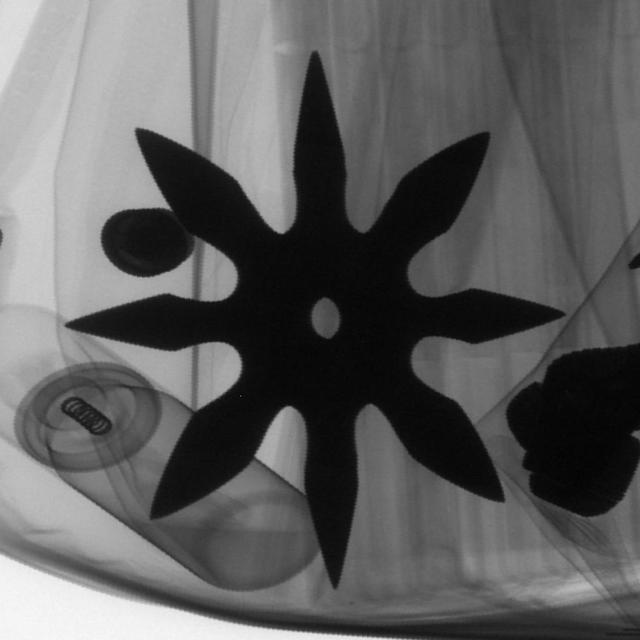shuriken: (64, 50, 574, 594)
